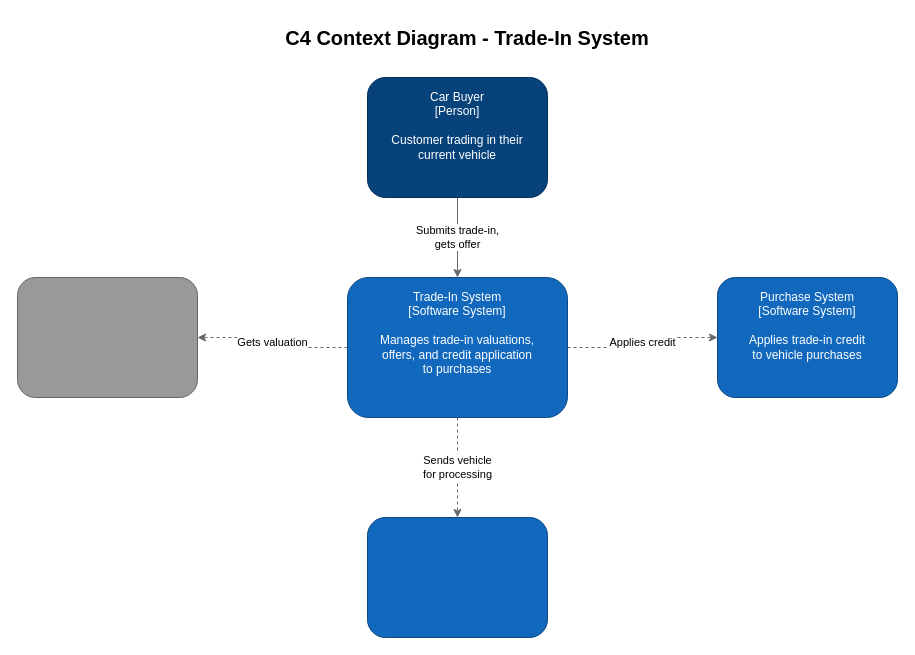
This 915x655 diagram has some shape labels left out. Each missing label, with the centre of its shape:
Valuation Service [External System] AI-powered trade-in vehicle valuation: [107,337]
Vehicle Acquisition [Software System] Processes trade-in vehicles for inventory: [457,577]
